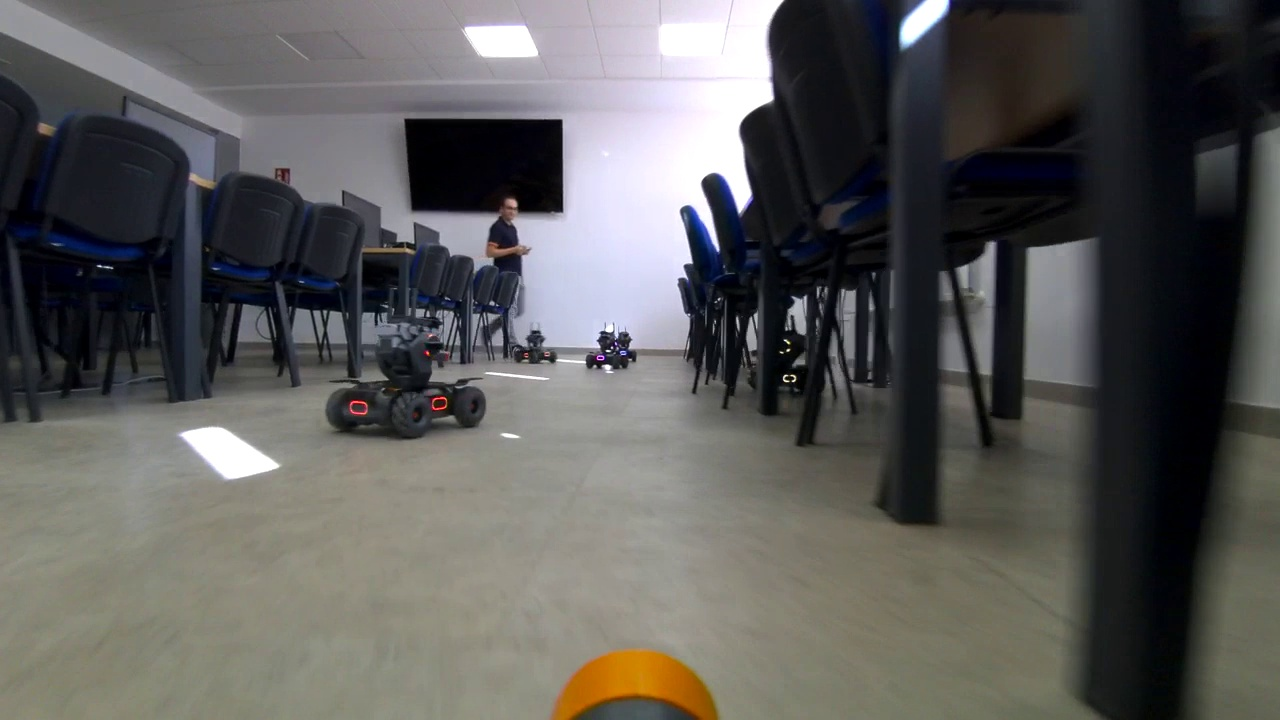robot: (325, 316, 483, 436), (579, 331, 636, 372), (512, 323, 552, 362)
